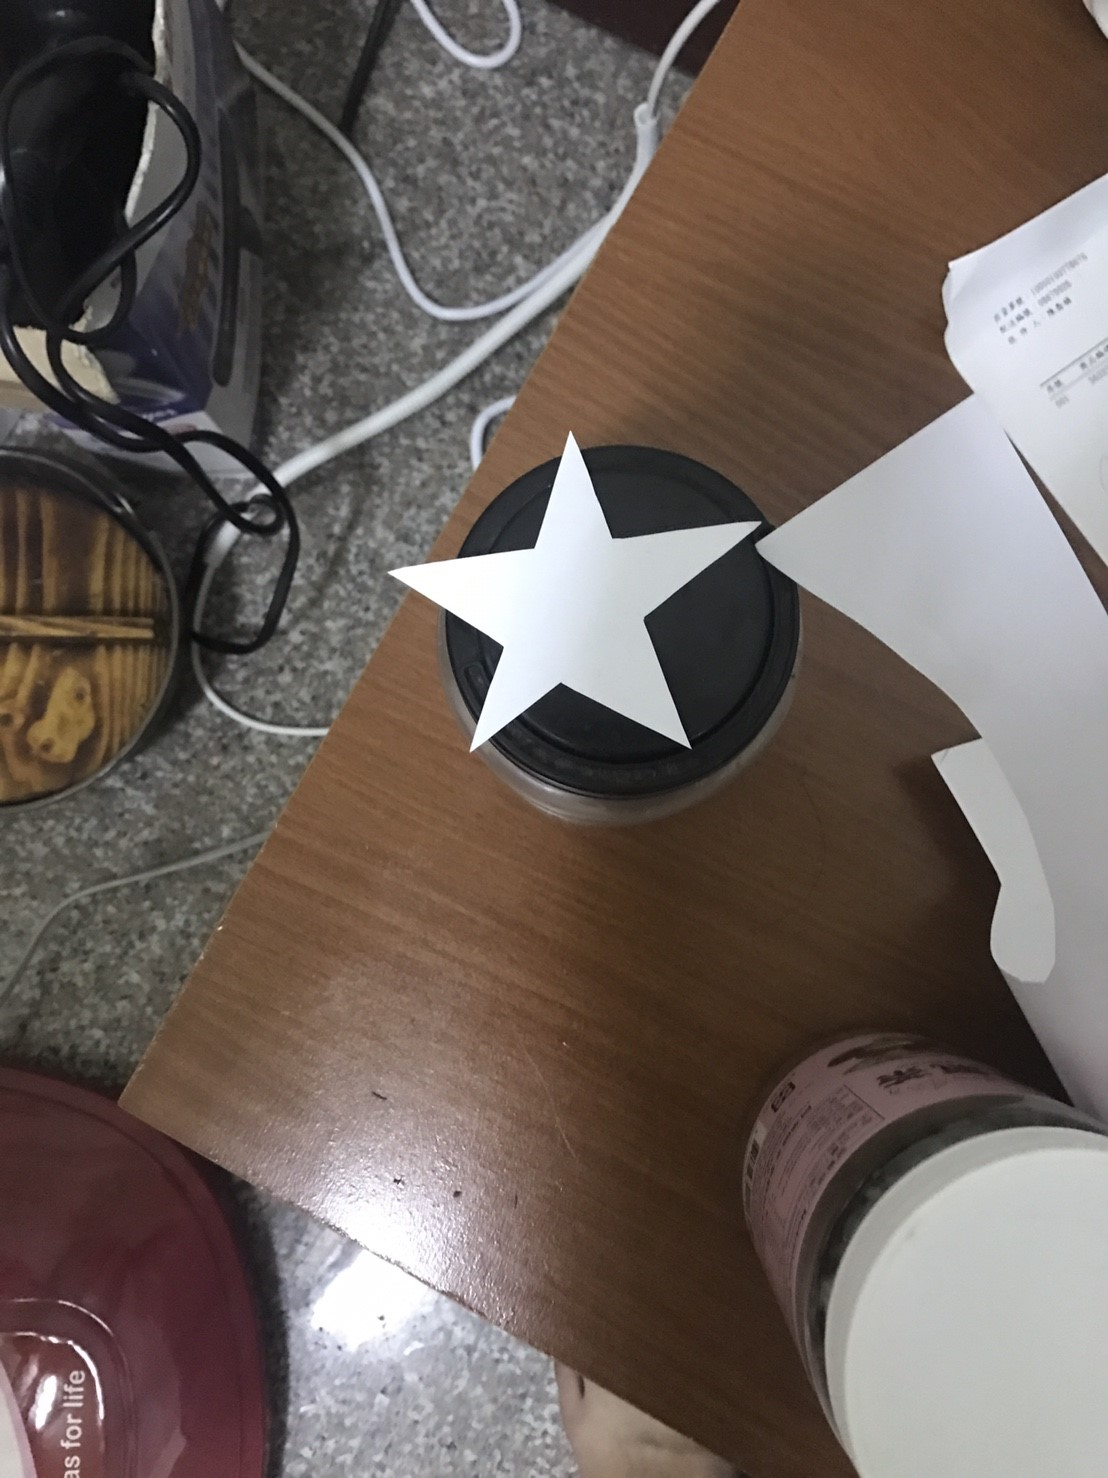star: (375, 424, 779, 768)
